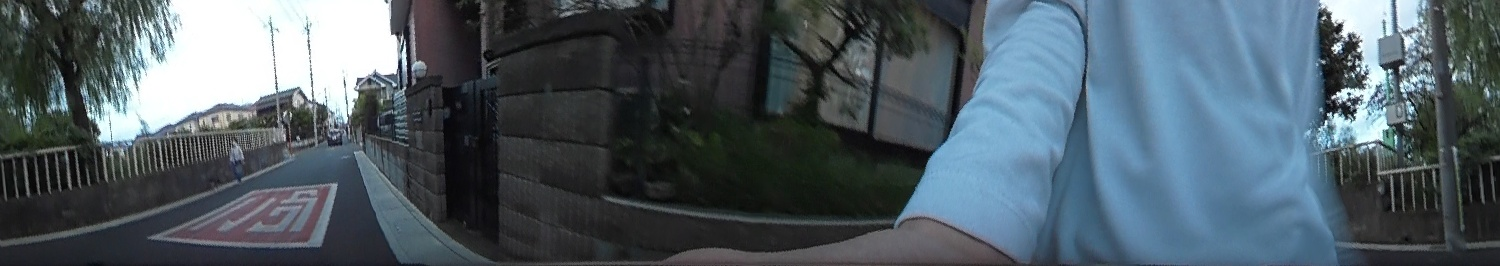difficult_person: (227, 136, 246, 179)
